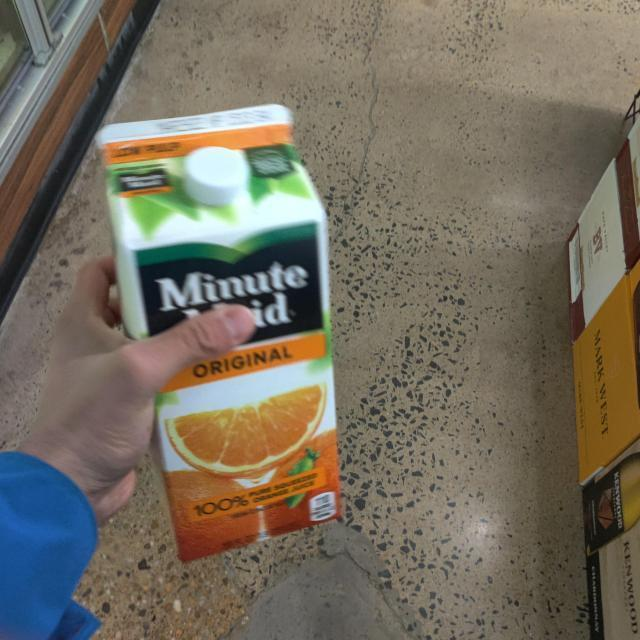Juice: (97, 105, 348, 564)
